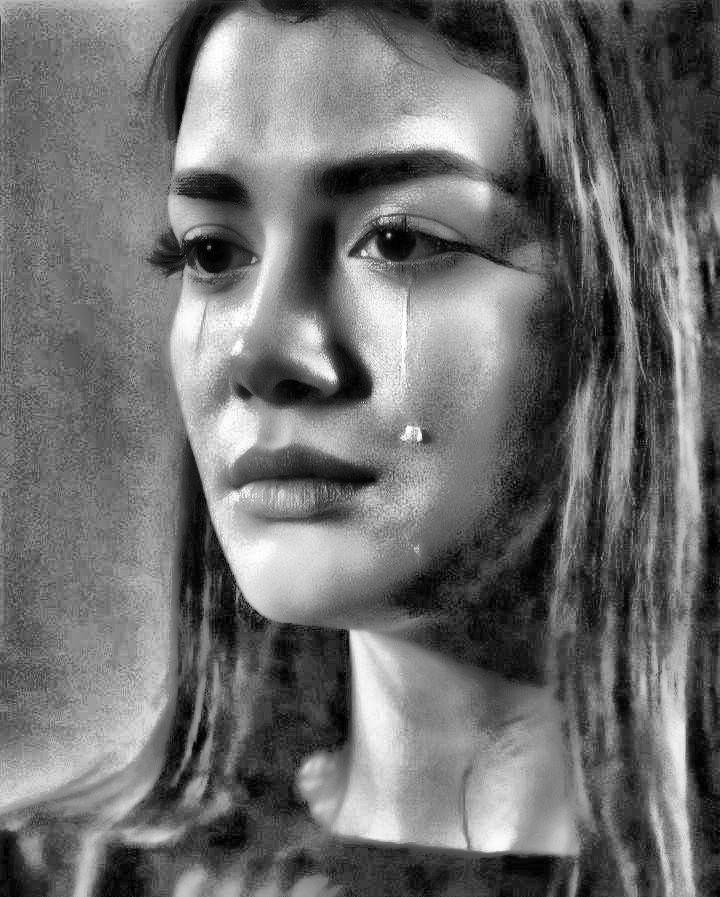sad: (147, 20, 549, 628)
